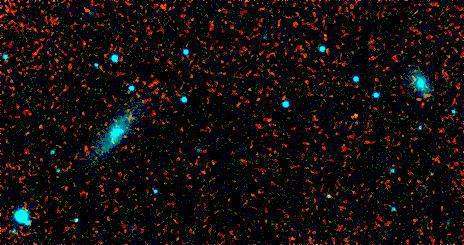star: (342, 98, 372, 128)
